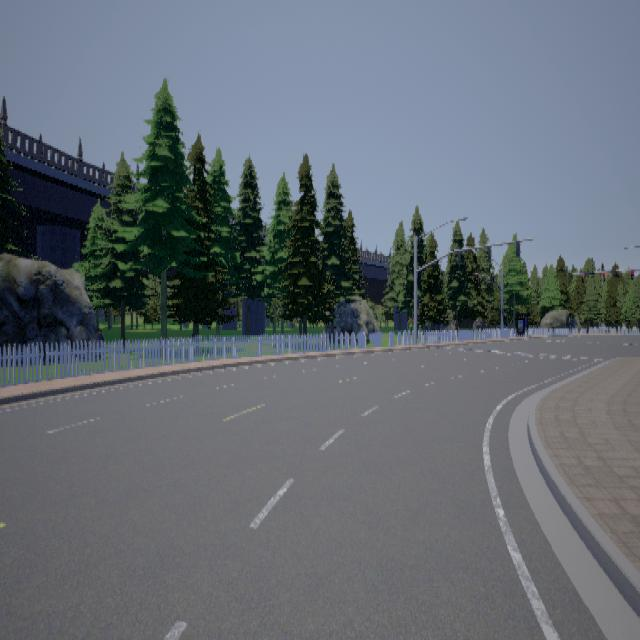red_light: (631, 269, 634, 279), (603, 272, 605, 282), (582, 274, 584, 283)
